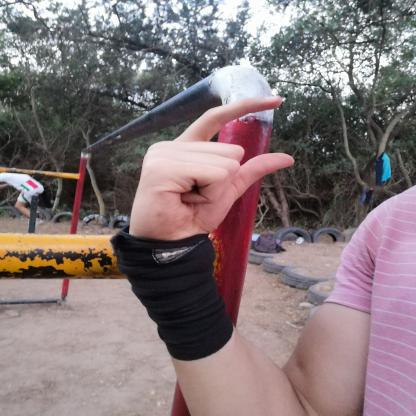DELL: (110, 86, 307, 254)
